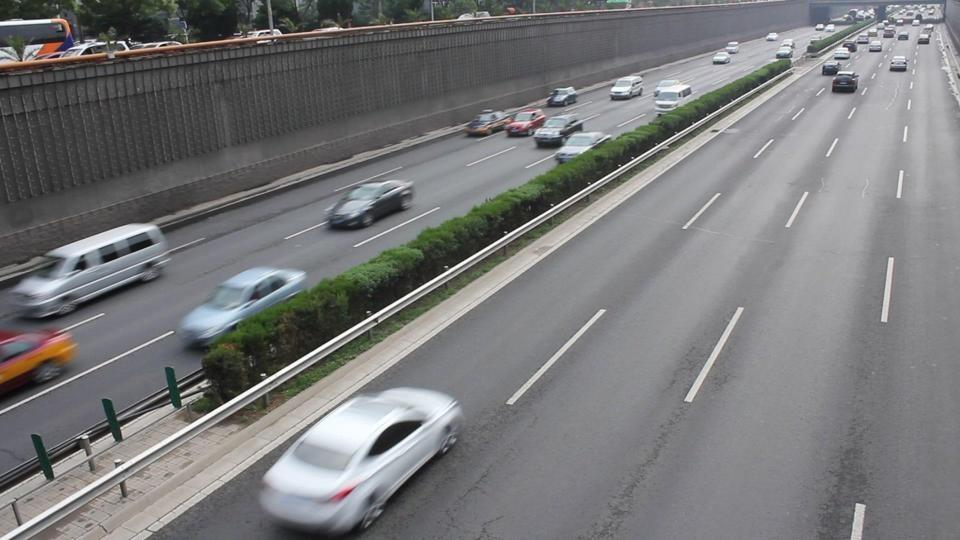car: (258, 385, 466, 537), (5, 222, 170, 320), (176, 265, 308, 350), (0, 330, 77, 395), (324, 178, 416, 230), (553, 130, 610, 166), (532, 114, 583, 148), (462, 109, 513, 137), (653, 78, 693, 110), (505, 109, 546, 136), (610, 76, 644, 100), (547, 86, 578, 107), (832, 72, 859, 93), (889, 53, 909, 73), (775, 41, 794, 59), (835, 44, 854, 59), (712, 52, 731, 65), (918, 28, 933, 44), (822, 61, 838, 76), (725, 40, 741, 54), (868, 39, 883, 53)
